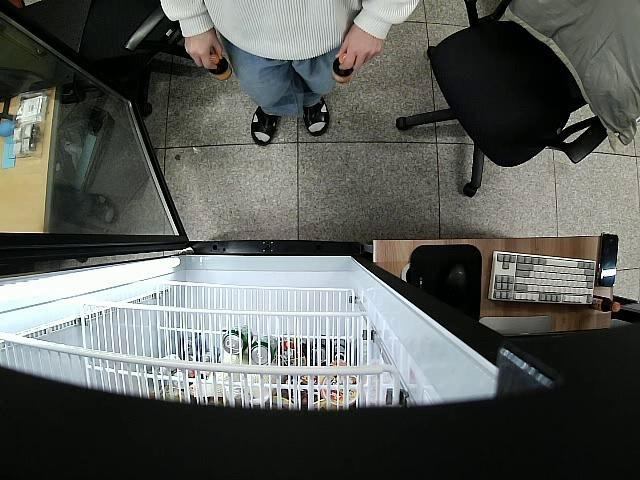17_vita500: (208, 53, 235, 80), (332, 52, 354, 84)
